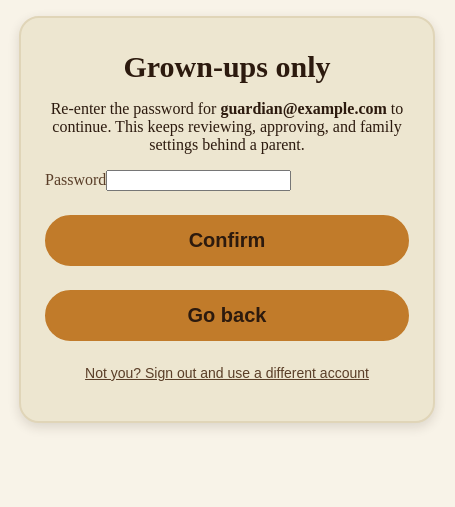
AdultGate › reports an operational failure as a connection problem, not a wrong password
The width and height of the screenshot is (455, 507).
Check: the heading "Grown-ups only" is shown, box top-left (124, 50), bottom-right (330, 83)
Type "whatever" into the password field labelled "Password" at {"x": 199, "y": 180}, box top-left (106, 170), bottom-right (291, 191)
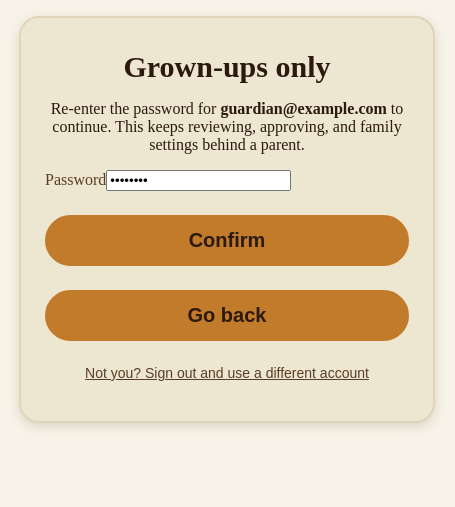
Click the button "Confirm" at {"x": 227, "y": 240}, box top-left (45, 215), bottom-right (409, 266)
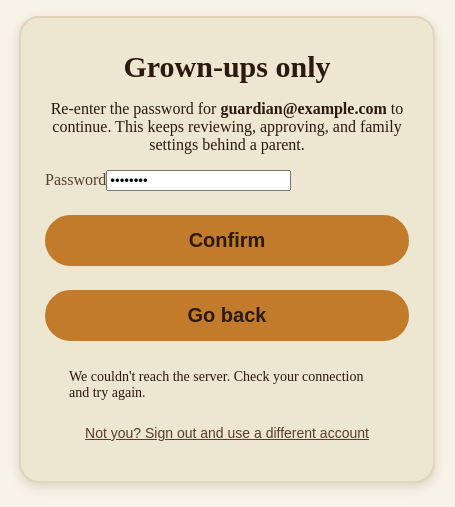
Check: the message "We couldn't reach the server. Check your connection and try again." is shown, box top-left (69, 369), bottom-right (385, 401)
